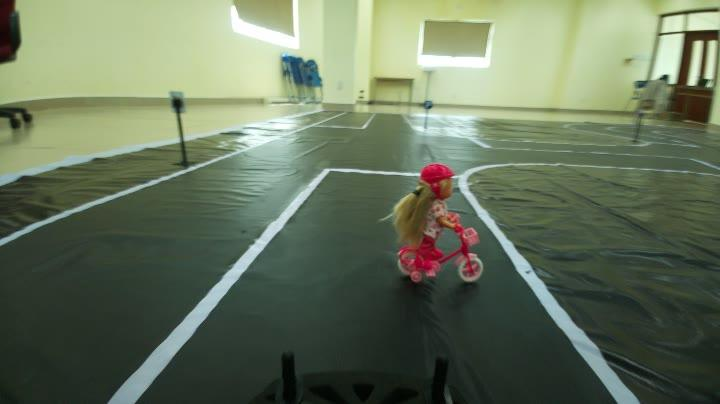pedestrian: (380, 158, 494, 287)
